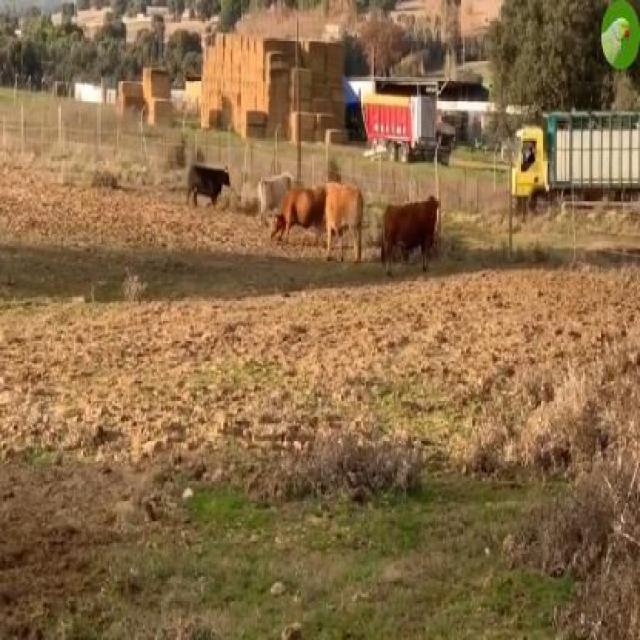Cow: (383, 194, 440, 274)
